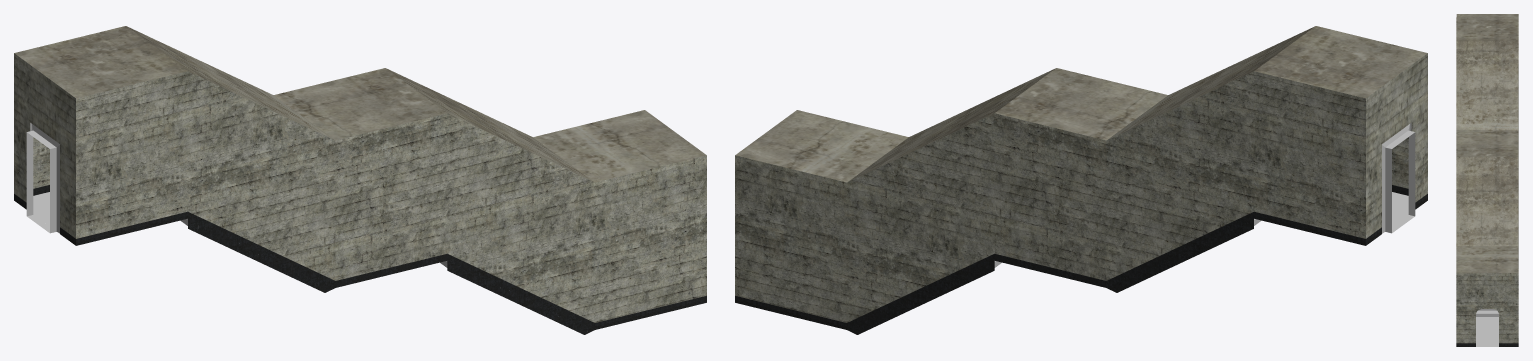
The model's file is TunnelSpace_ExitRoom.FBX.
3 renders of one model, left to right at view 1: azimuth 30°, elevation 25°; view 2: azimuth 150°, elevation 25°; view 3: azimuth 270°, elevation 25°, orthographic. The views are drawn at different scales.
Visible parts, largest first — view 1: TunnelSpace_ExitRoom; view 2: TunnelSpace_ExitRoom; view 3: TunnelSpace_ExitRoom.
Boxes of the visible parts, <box> form: TunnelSpace_ExitRoom: <box>14,26,706,334</box>; TunnelSpace_ExitRoom: <box>735,26,1427,334</box>; TunnelSpace_ExitRoom: <box>1456,14,1518,346</box>.
Size of what is drawn, in the model's own units: 1870 by 1011 by 315.
